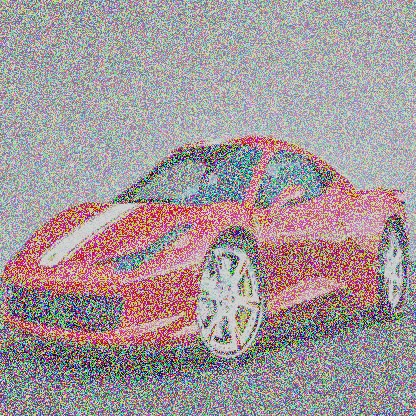Vehicle: (2, 134, 414, 369)
